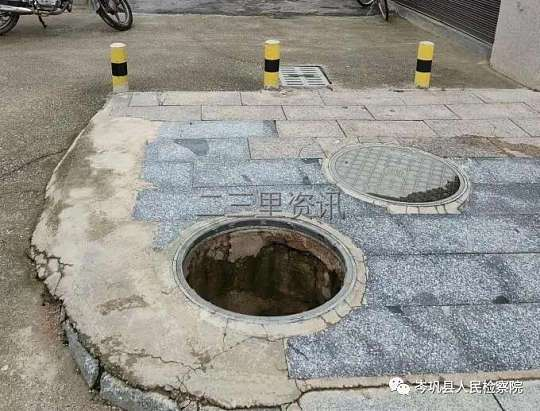lose: (166, 206, 368, 331)
